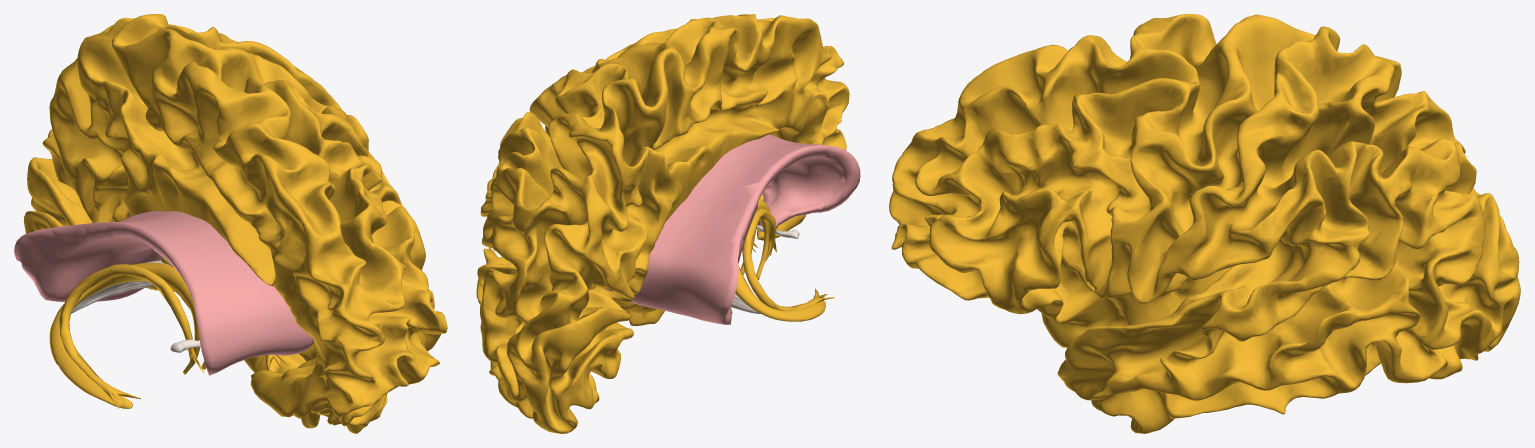
File: nervoso-white-matter-of-telencephalon-l.glb
The picture shows the model from 3 angles, left to right: view 1: azimuth 30°, elevation 25°; view 2: azimuth 150°, elevation 25°; view 3: azimuth 270°, elevation 25°; orthographic projection. The views are drawn at different scales.
Visible parts, largest first — view 1: White matter of telencephalon.l, Corpus callosum, Stria terminalis.r, Fornix.r, Hippocampal commissure; view 2: White matter of telencephalon.l, Corpus callosum, Stria terminalis.r, Fornix.r; view 3: White matter of telencephalon.l.
Boxes of the visible parts, x1,y1,x2,y2 form: White matter of telencephalon.l: [23, 14, 447, 433]; Corpus callosum: [14, 211, 314, 375]; Stria terminalis.r: [59, 264, 203, 408]; Fornix.r: [49, 262, 200, 408]; Hippocampal commissure: [71, 260, 172, 313]; White matter of telencephalon.l: [476, 14, 849, 433]; Corpus callosum: [604, 134, 860, 324]; Stria terminalis.r: [742, 208, 834, 310]; Fornix.r: [735, 199, 825, 321]; White matter of telencephalon.l: [889, 14, 1520, 433].
Bounding box in the file's own units: 0.0954 × 0.1095 × 0.1749.
